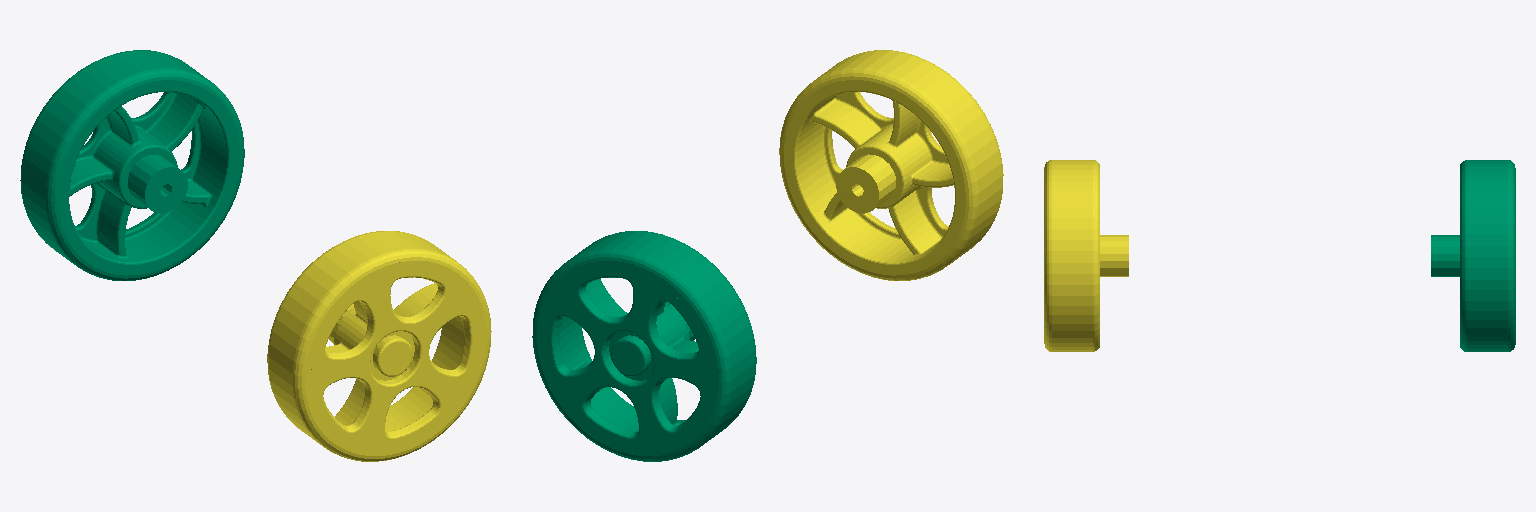
URDF robot description (zoo_two_wheel_diff):
<?xml version="1.0" encoding="utf-8"?>

<robot name="zoo_two_wheel_diff">
  <link name="base_footprint">
  </link>

  <joint name="footprint_joint" type="fixed">
    <parent link="base_footprint" />
    <child link="base_link" />
  </joint>

  <link name="base_link">
    <inertial>
      <origin xyz="-0.0017685 0.00071423 0.040342" rpy="0 0 0" />
      <mass value="2.1268" />
      <inertia
        ixx="0.017378"
        ixy="0.00011307"
        ixz="0.0021559"
        iyy="0.021668"
        iyz="-3.6876E-05"
        izz="0.023374" />
    </inertial>
    <visual>
      <origin xyz="0 0 0" rpy="0 0 0" />
      <geometry>
        <mesh filename="package://zoo_description/meshes/zoo_two_wheel_diff/base_link.STL" />
      </geometry>
    </visual>
    <collision>
      <origin xyz="0 0 0" rpy="0 0 0" />
      <geometry>
        <mesh filename="package://zoo_description/meshes/zoo_two_wheel_diff/base_link.STL" />
      </geometry>
    </collision>
  </link>

  <link name="wheel_L_link">
    <inertial>
      <origin xyz="-3.7877E-07 -0.013414 4.8127E-07" rpy="0 0 0" />
      <mass value="0.33784" />
      <inertia
        ixx="0.00027827"
        ixy="1.2914E-09"
        ixz="1.097E-09"
        iyy="0.00049641"
        iyz="-1.6416E-09"
        izz="0.00027827" />
    </inertial>
    <visual>
      <origin xyz="0 0 0" rpy="0 0 0" />
      <geometry>
        <mesh filename="package://zoo_description/meshes/zoo_two_wheel_diff/wheel_L_link.STL" />
      </geometry>
    </visual>
    <collision>
      <origin xyz="0 0 0" rpy="0 0 0" />
      <geometry>
        <mesh filename="package://zoo_description/meshes/zoo_two_wheel_diff/wheel_L_link.STL" />
      </geometry>
    </collision>
  </link>

  <joint name="wheel_L_joint" type="continuous">
    <origin xyz="0 0.1215 -0.02" rpy="0 0 0" />
    <parent link="base_link" />
    <child link="wheel_L_link" />
    <axis xyz="0 -1 0" />
  </joint>

  <link name="wheel_R_link">
    <inertial>
      <origin xyz="-5.5458E-07 0.013414 2.5987E-07" rpy="0 0 0" />
      <mass value="0.33784" />
      <inertia
        ixx="0.00027827"
        ixy="-1.8915E-09"
        ixz="1.1877E-09"
        iyy="0.00049641"
        iyz="8.8583E-10"
        izz="0.00027827" />
    </inertial>
    <visual>
      <origin xyz="0 0 0" rpy="0 0 0" />
      <geometry>
        <mesh filename="package://zoo_description/meshes/zoo_two_wheel_diff/wheel_R_link.STL" />
      </geometry>
    </visual>
    <collision>
      <origin xyz="0 0 0" rpy="0 0 0" />
      <geometry>
        <mesh filename="package://zoo_description/meshes/zoo_two_wheel_diff/wheel_R_link.STL" />
      </geometry>
    </collision>
  </link>

  <joint name="wheel_R_joint" type="continuous">
    <origin xyz="0 -0.1215 -0.02" rpy="0 0 0" />
    <parent link="base_link" />
    <child link="wheel_R_link" />
    <axis xyz="0 -1 0" />
  </joint>
  
</robot>

--- What the picture shows (computed from the rendered views, not written in the file) ---
3 views of the same robot in one strip: view 1: azimuth 30°, elevation 25°; view 2: azimuth 150°, elevation 25°; view 3: azimuth 270°, elevation 25° (orthographic).
Robot: zoo_two_wheel_diff — 4 links, 3 joints (2 continuous, 1 fixed); root link base_footprint; default pose: every joint at zero.
Visible links, largest first — view 1: wheel_R_link, wheel_L_link; view 2: wheel_L_link, wheel_R_link; view 3: wheel_L_link, wheel_R_link.
Link boxes in pixels (box(x1,y1,x2,y2)): wheel_R_link: box(267, 231, 491, 461); wheel_L_link: box(20, 50, 244, 280); wheel_L_link: box(532, 231, 756, 461); wheel_R_link: box(779, 50, 1003, 280); wheel_L_link: box(1431, 160, 1515, 351); wheel_R_link: box(1044, 160, 1128, 351).
Bounding box of the posed robot: 0.1 × 0.245 × 0.1 m (x, y, z).
Meshes: 3 distinct files referenced, 2 mesh visuals loaded (2 binary STL); not drawn: 1 (reference not matched to a file when rendering).
